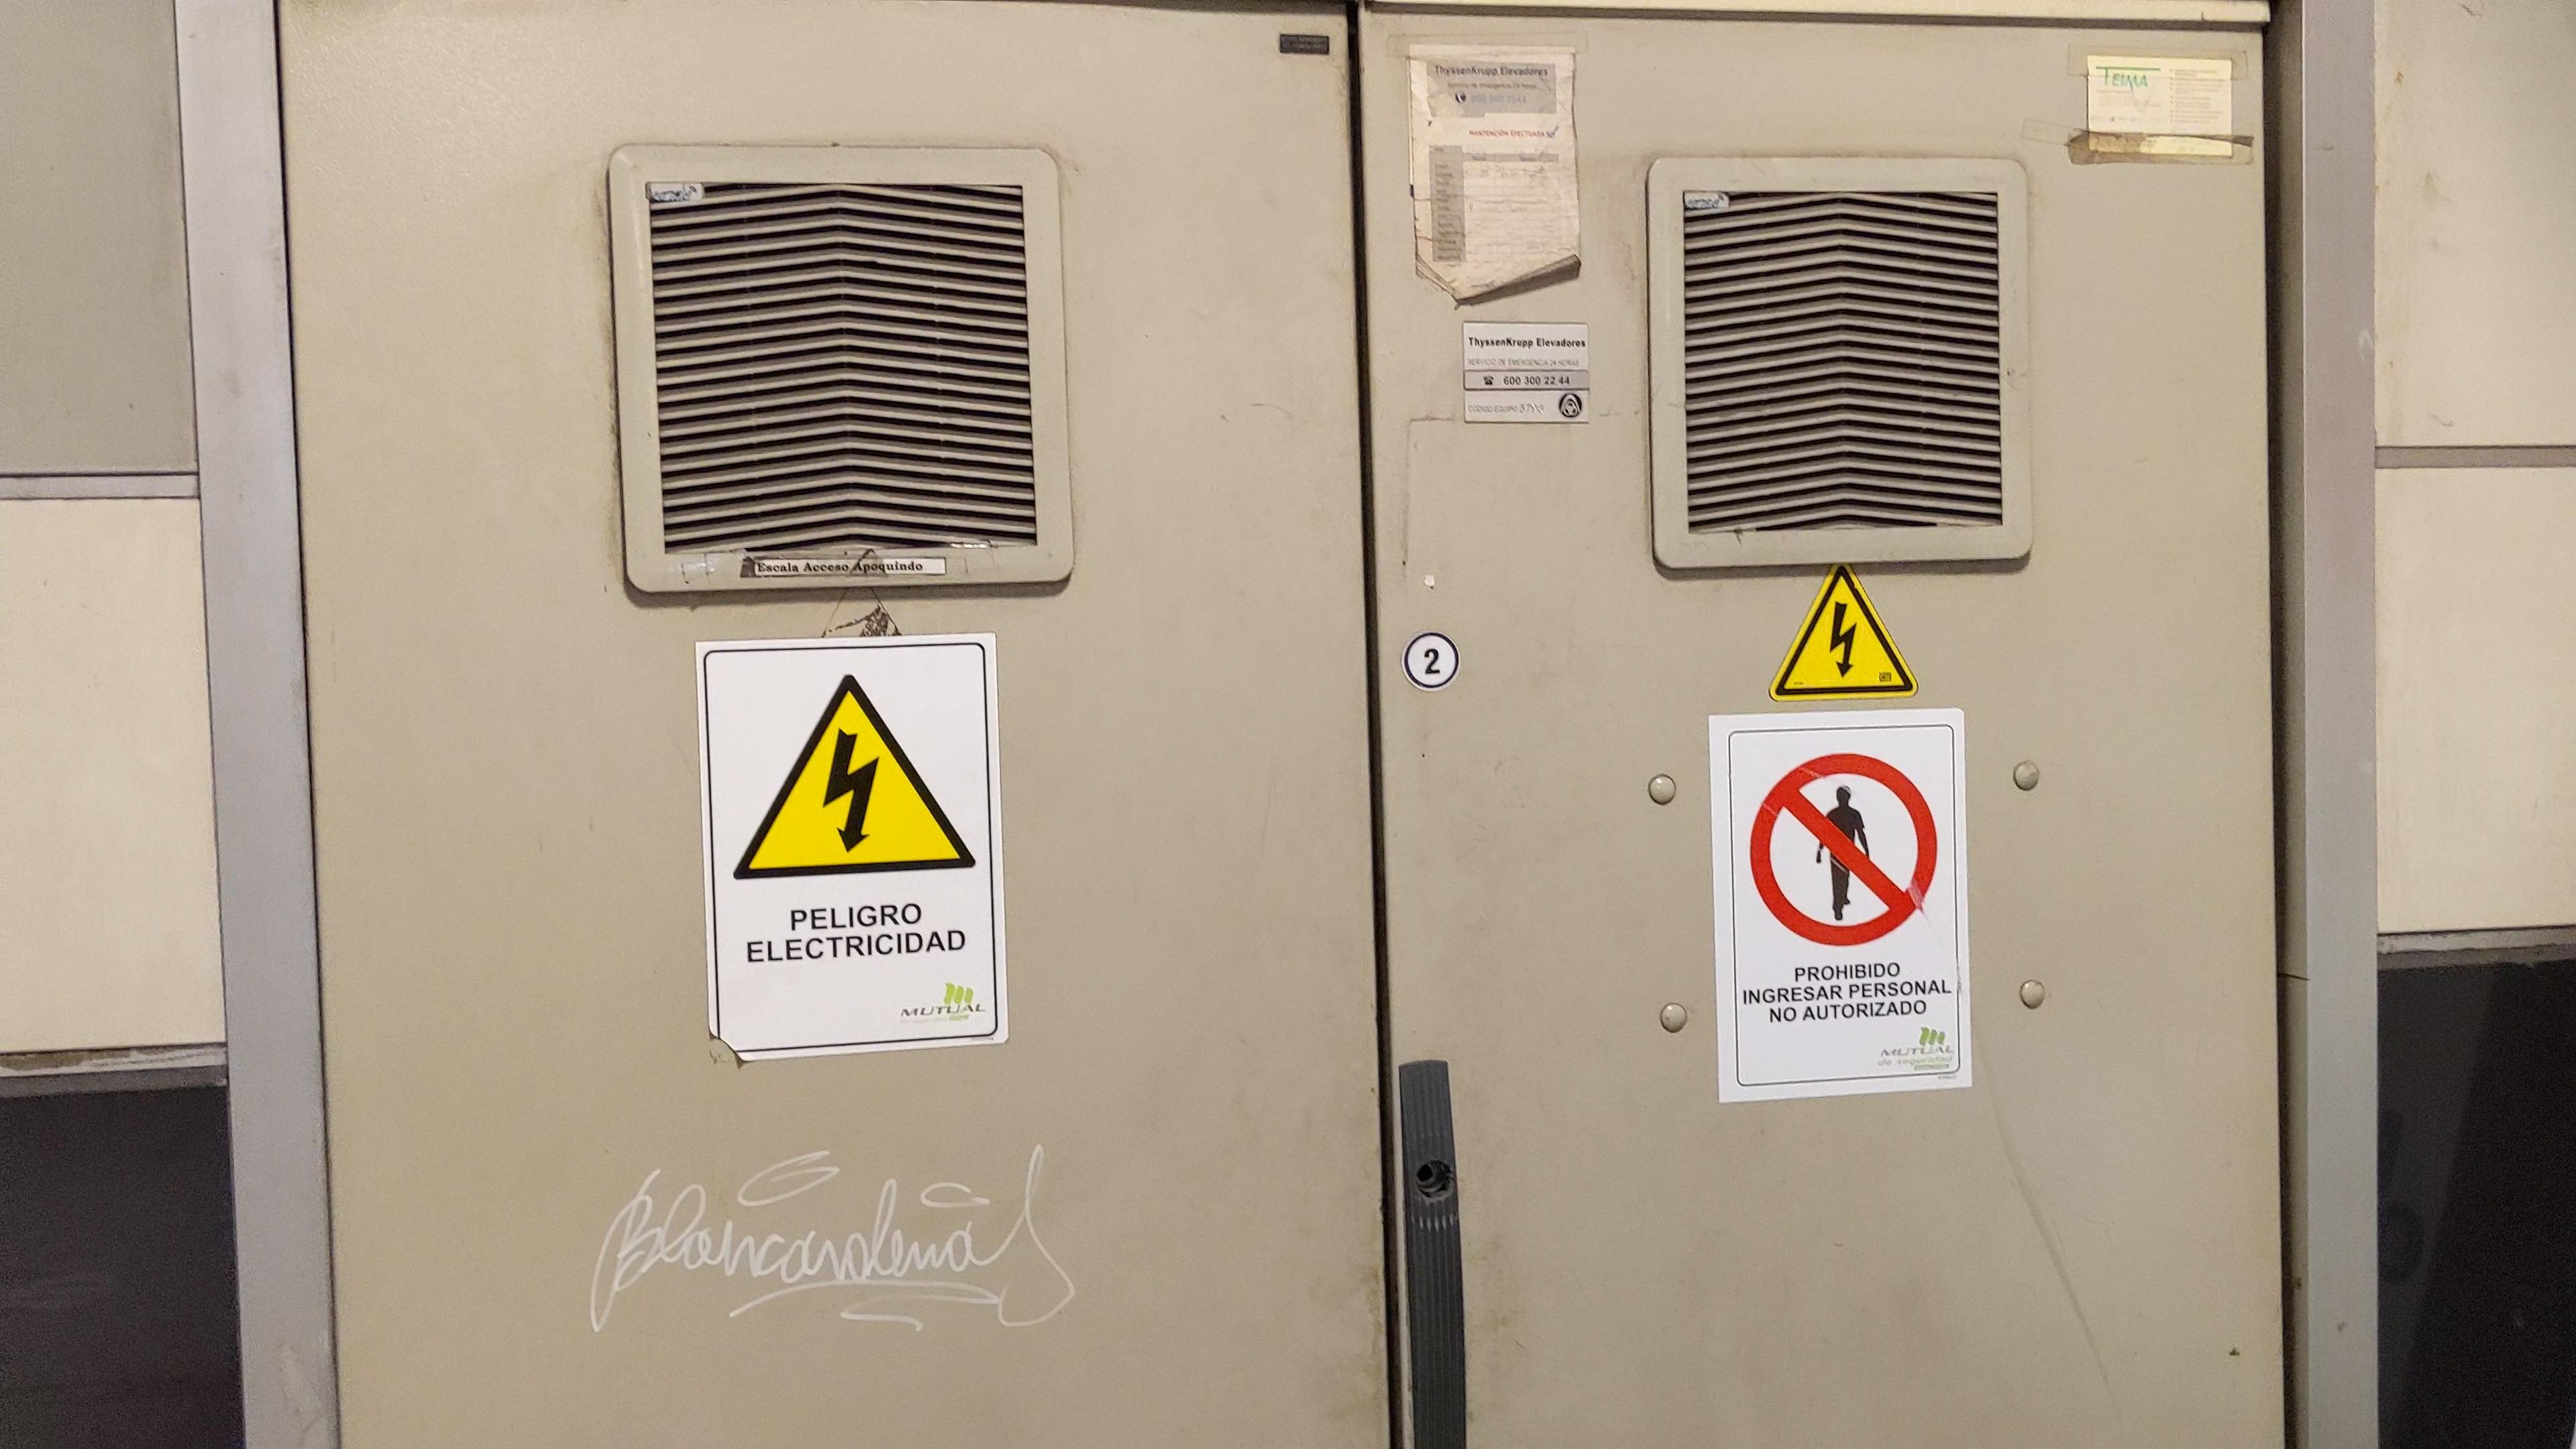danger-electricity: (729, 669, 982, 883), (1769, 559, 1920, 702)
